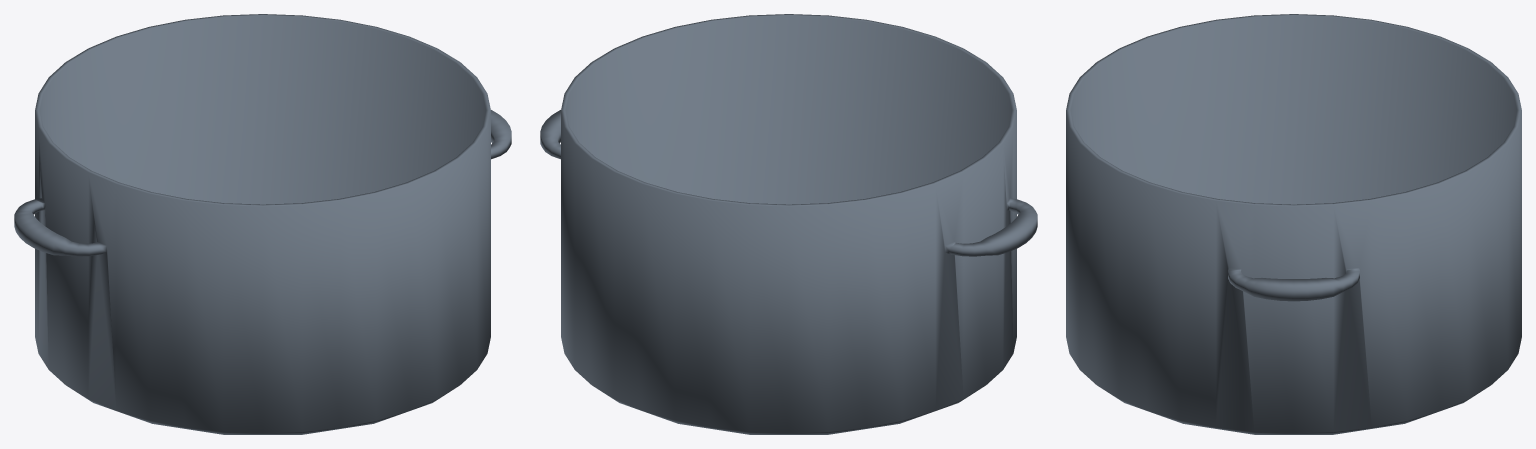
Rendered from Prop_Stockpot.fbx.
3 views of the same model, side by side, from view 1: azimuth 30°, elevation 25°; view 2: azimuth 150°, elevation 25°; view 3: azimuth 270°, elevation 25° (orthographic).
Parts seen in each view (by area): view 1: Stockpot; view 2: Stockpot; view 3: Stockpot.
Boxes of the visible parts, x1,y1,x2,y2 form: Stockpot: (14,14,511,434); Stockpot: (540,14,1037,434); Stockpot: (1066,14,1521,434).
Size of the model in its own units: 42.67 by 20 by 35.56.
